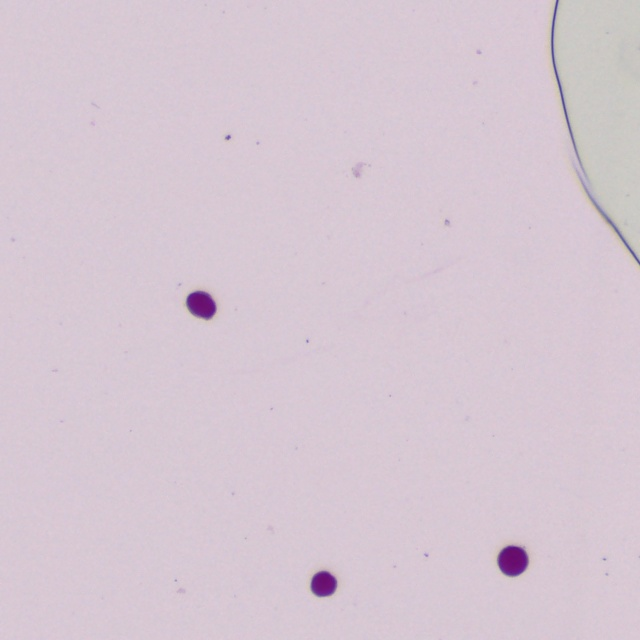viable: (498, 546, 528, 575), (187, 291, 215, 318), (312, 572, 337, 596)
